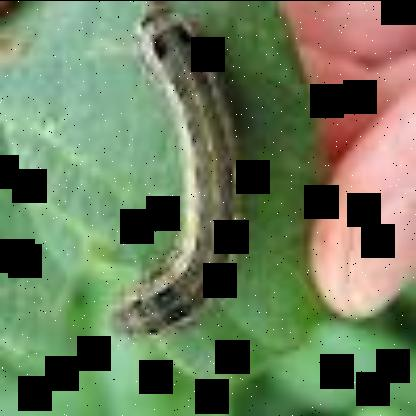oruga: (93, 2, 235, 352)
